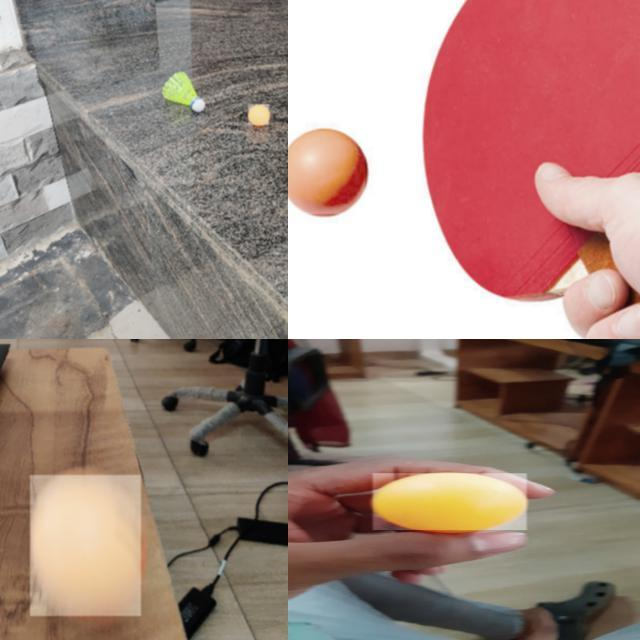ping-pong-ball: (29, 475, 142, 617), (373, 472, 528, 530), (288, 128, 366, 216), (248, 104, 270, 126)
